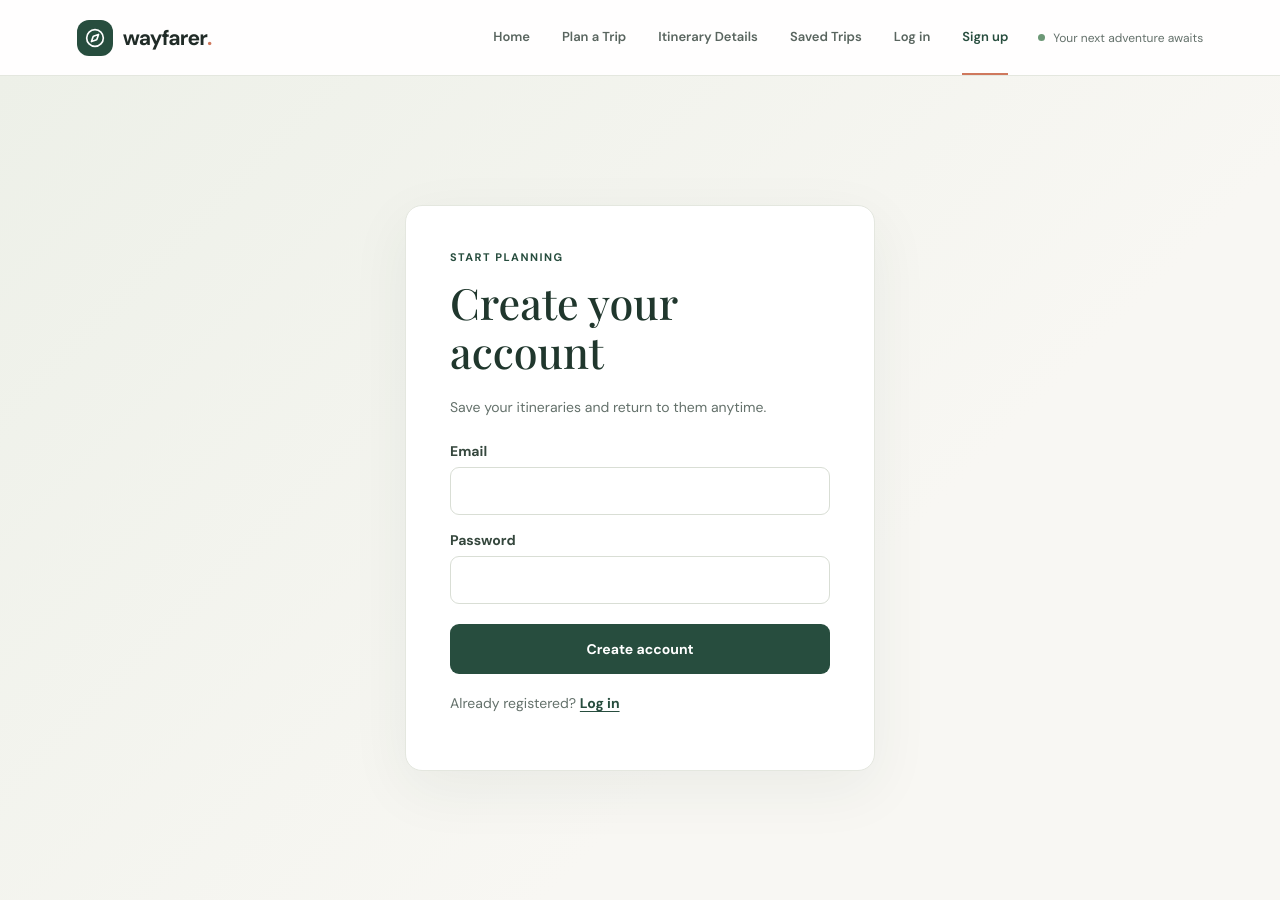
Test case: account-backed journeys with an isolated API test double › locks signup after Supabase reports its email delivery limit
Type "new@example.test" into the field labelled "Email" at point(640, 491), box top-left (450, 467), bottom-right (830, 515)
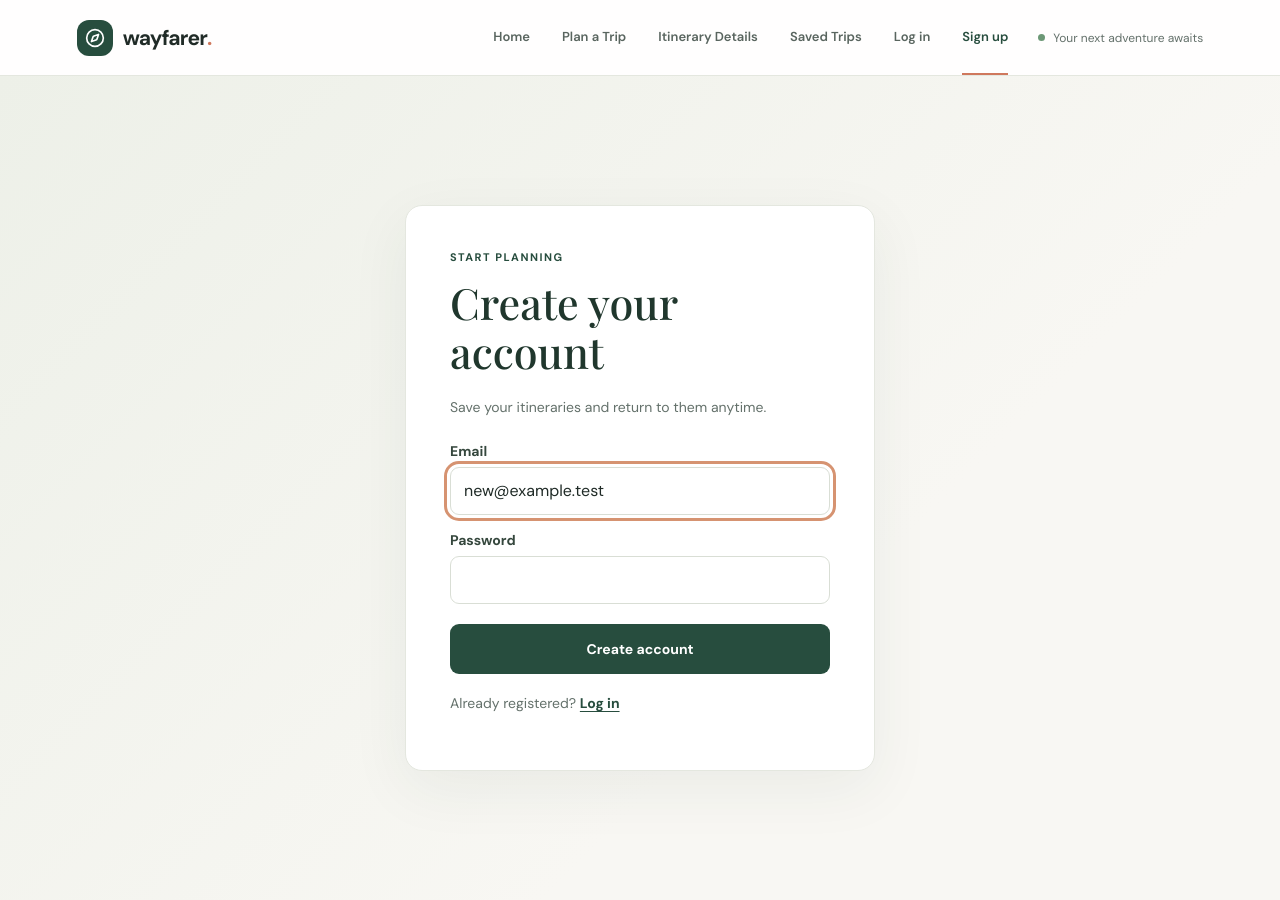
Type "test-password" into the password field labelled "Password" at point(640, 580), box top-left (450, 556), bottom-right (830, 604)
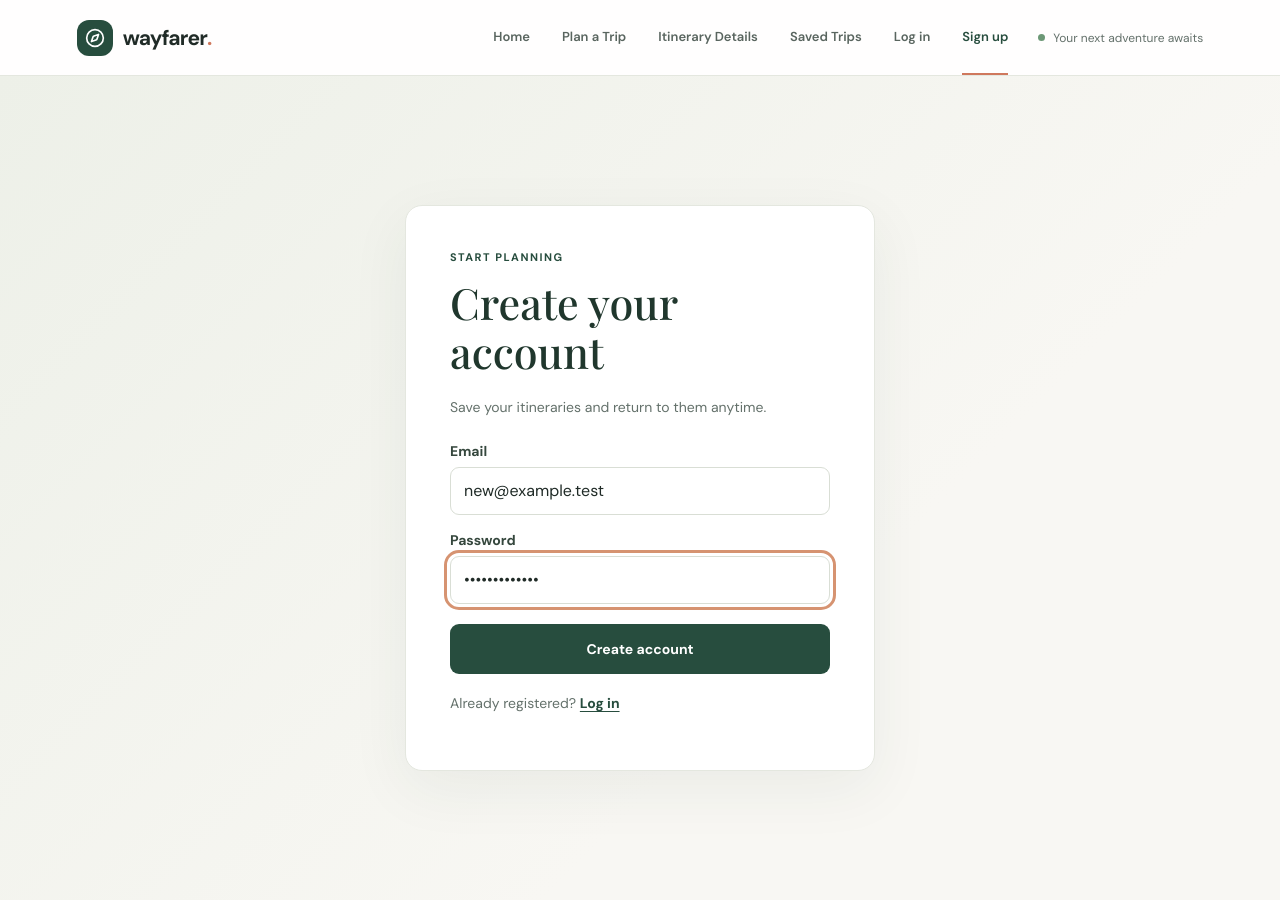
Click the button "Create account" at point(640, 649), box top-left (450, 624), bottom-right (830, 674)
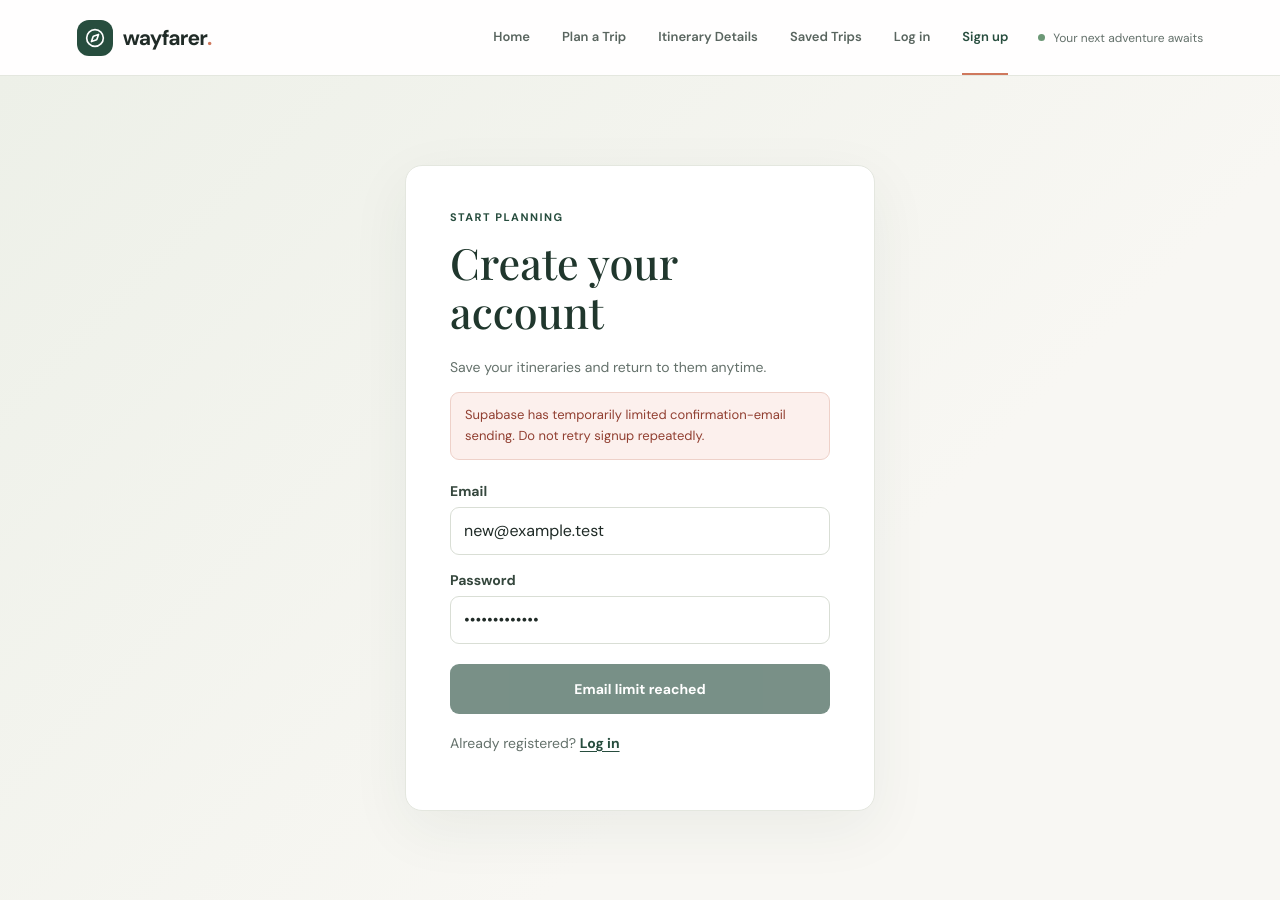
Now the text "Do not retry signup repeatedly" is shown, box top-left (465, 406), bottom-right (786, 444)
Now the button "Email limit reached" is disabled, box top-left (450, 664), bottom-right (830, 714)
